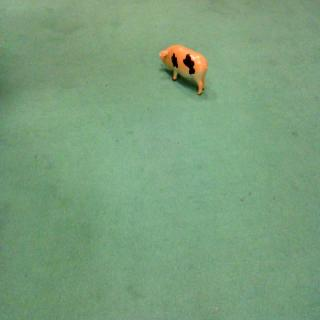pig: (158, 41, 212, 99)
